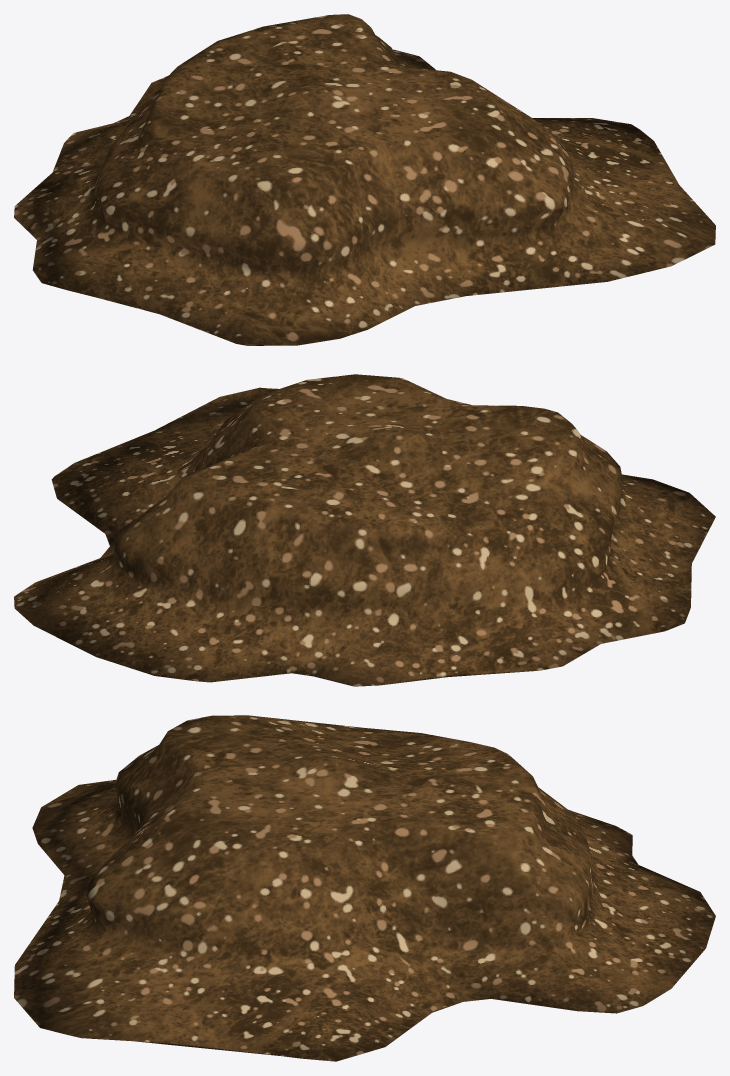
File: Mudloot.fbx
3 renders of one model, top to bottom at view 1: azimuth 30°, elevation 25°; view 2: azimuth 150°, elevation 25°; view 3: azimuth 270°, elevation 25°, orthographic. The views are drawn at different scales.
Parts seen in each view (by area): view 1: MudlootL; view 2: MudlootL; view 3: MudlootL.
Part boxes in pixels (left/top/right/bottom): MudlootL: left=14, top=14, right=715, bottom=345; MudlootL: left=14, top=374, right=715, bottom=686; MudlootL: left=14, top=715, right=715, bottom=1061.
Bounding box in the file's own units: 70.17 × 13.53 × 65.29.
